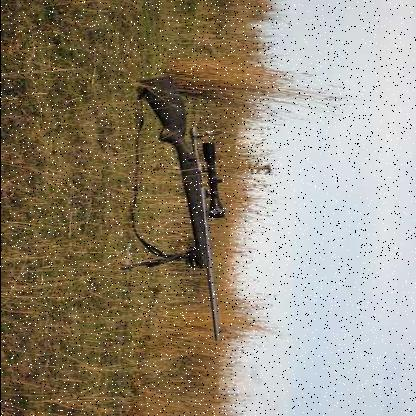rifle: (101, 73, 246, 361)
